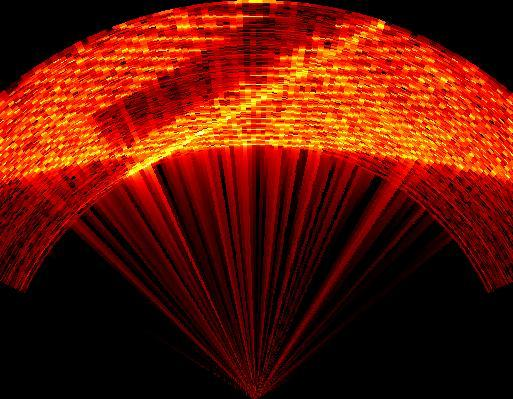pipe: (83, 5, 387, 177)
